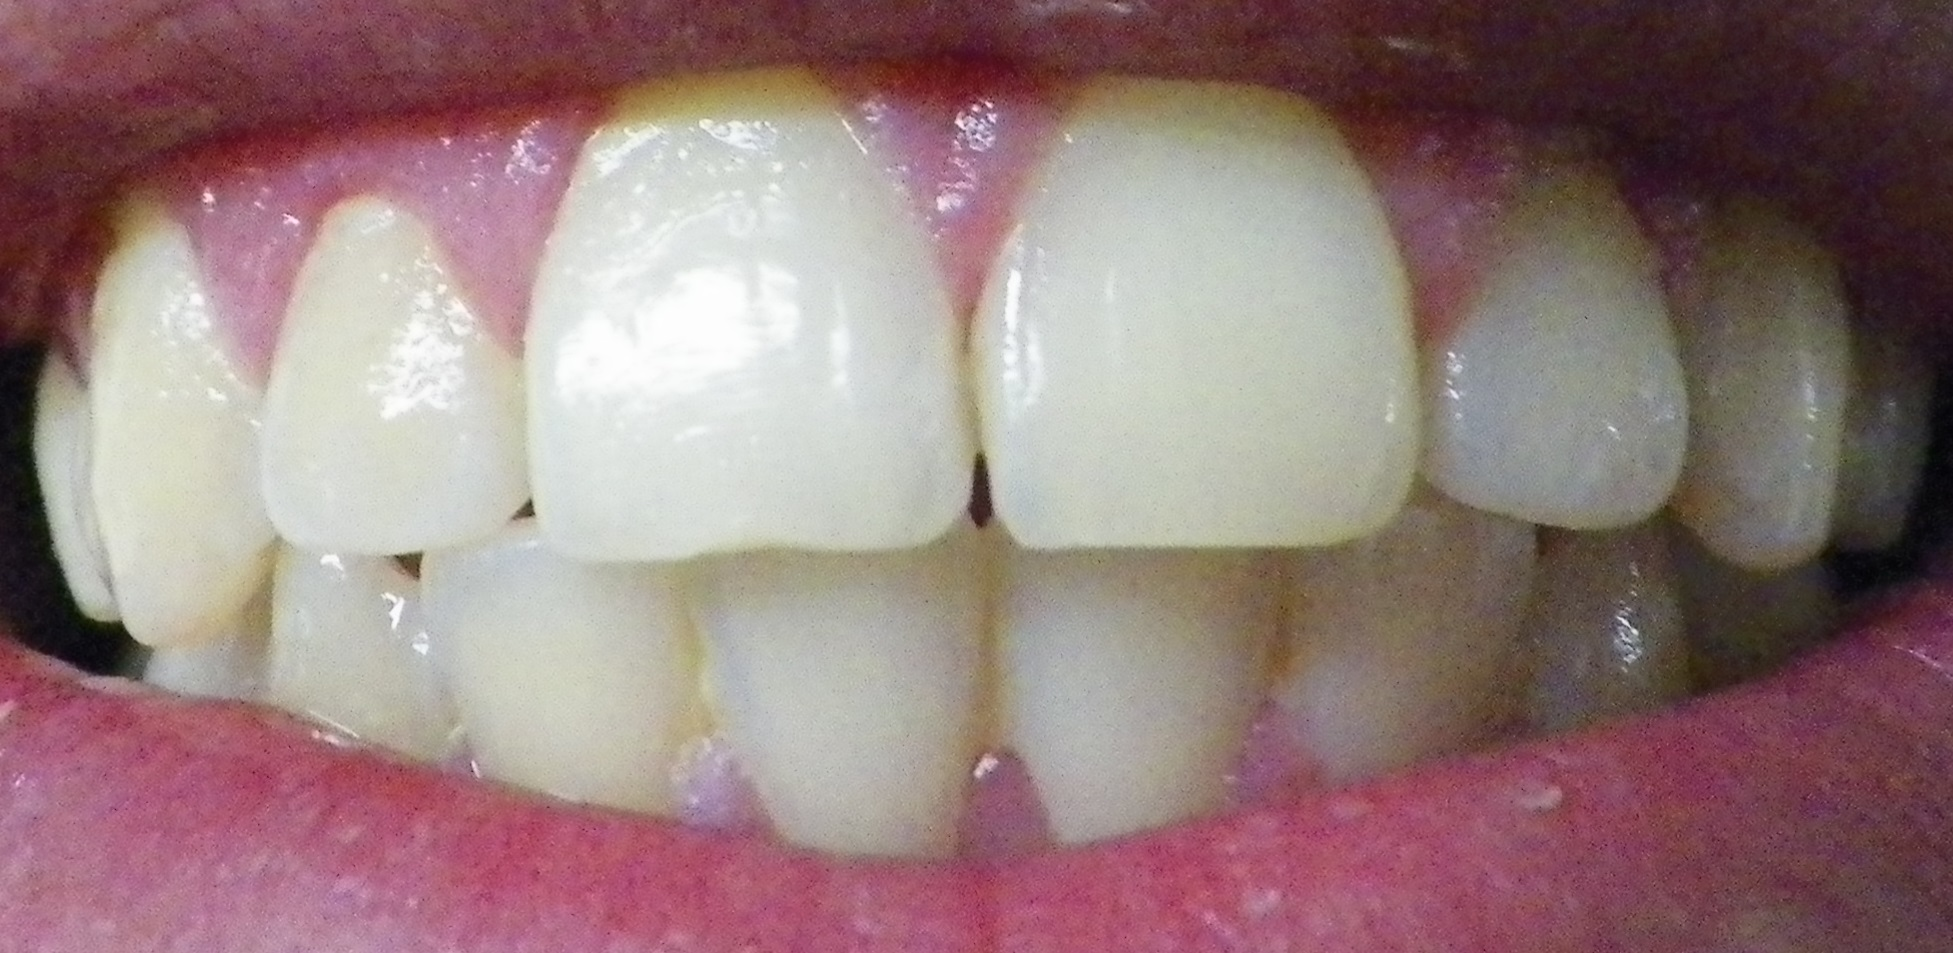boca: (24, 87, 1953, 832)
